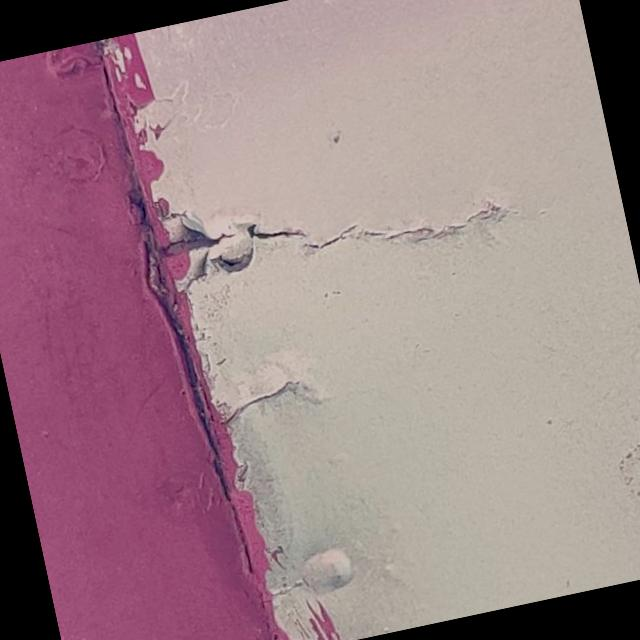crack: (133, 130, 535, 326), (186, 350, 319, 452)
